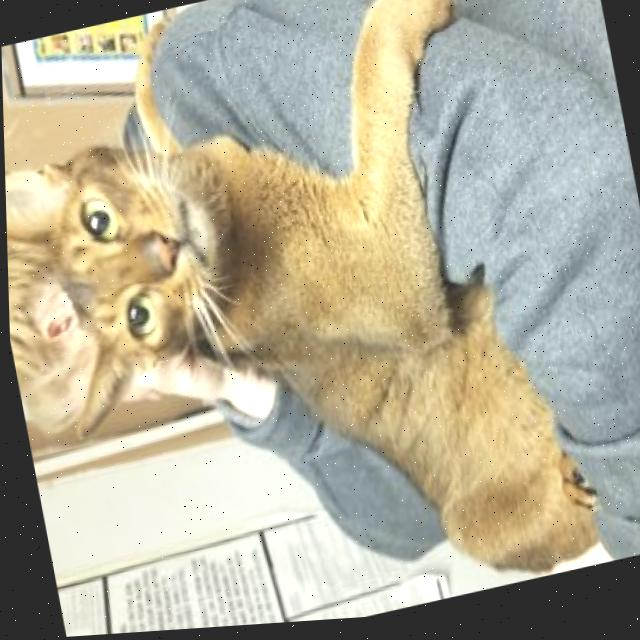Abyssinian: (0, 0, 610, 640)
